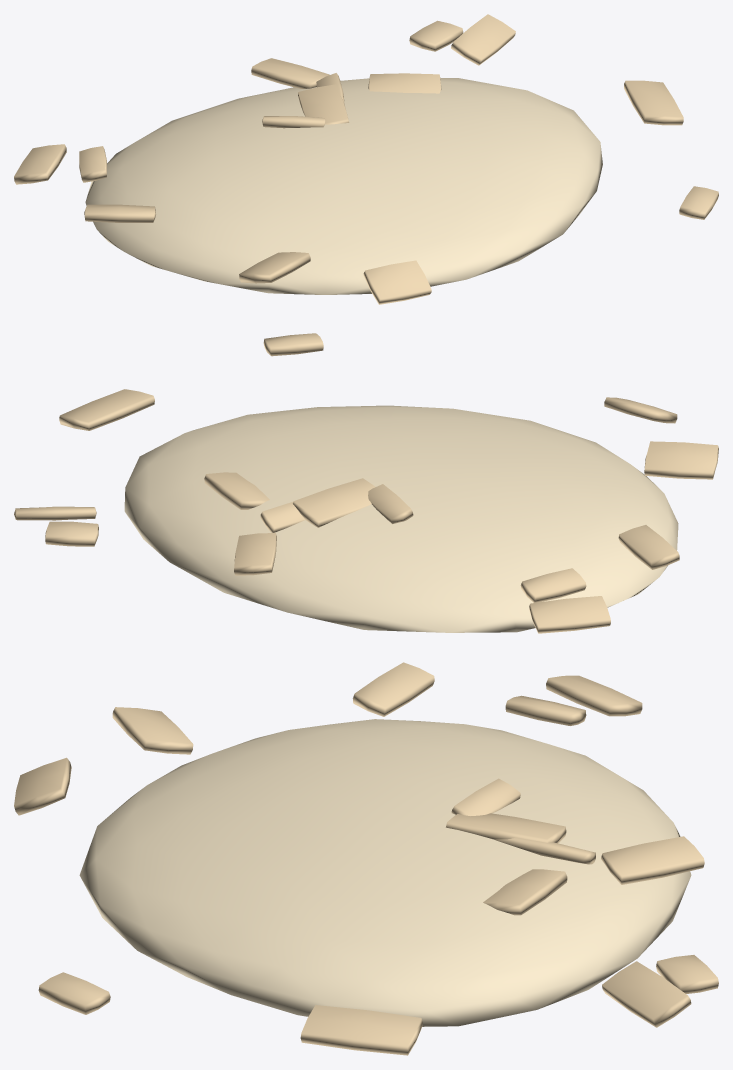
File: LogJamChips.glb
The picture shows the model from 3 angles, top to bottom: view 1: azimuth 30°, elevation 25°; view 2: azimuth 150°, elevation 25°; view 3: azimuth 270°, elevation 25°; orthographic projection. The views are drawn at different scales.
Visible parts, largest first — view 1: Sawdust, Chips; view 2: Sawdust, Chips; view 3: Sawdust, Chips.
Part boxes in pixels (box(x1,y1,x2,y2)): Sawdust: box(85, 78, 602, 294); Chips: box(14, 14, 718, 304); Sawdust: box(124, 405, 678, 632); Chips: box(14, 333, 718, 633); Sawdust: box(79, 719, 691, 1026); Chips: box(14, 662, 718, 1055).
Size of the model in its own units: 4.13 by 0.3895 by 3.32.
